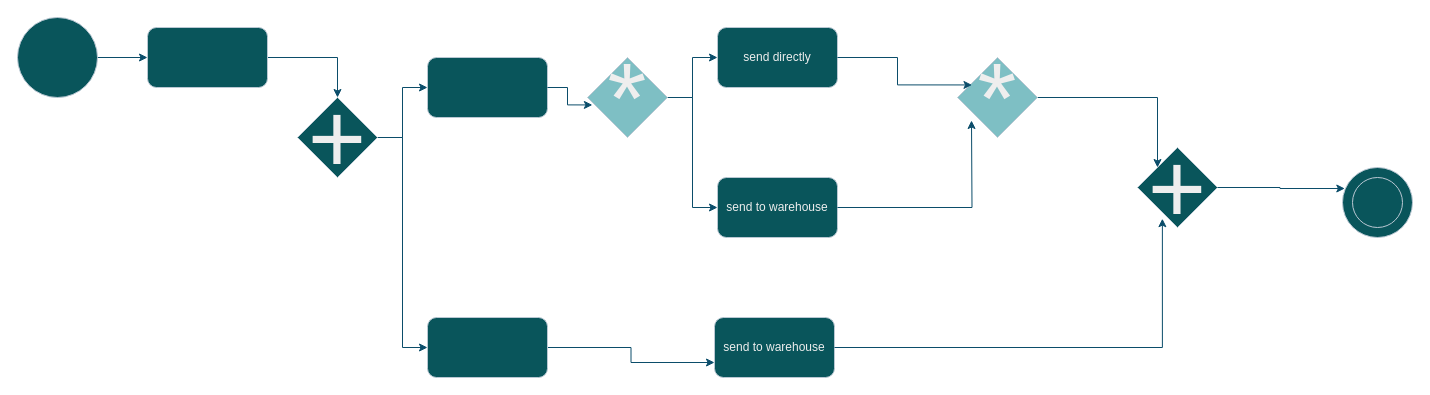
This 1430x395 diagram has some shape labels left out. Here are the shapes that lost their labels. From the top down, the centre of each, then its label:
pixel 207 57: receive work order
pixel 487 87: produce invoice
pixel 487 347: delivery note
